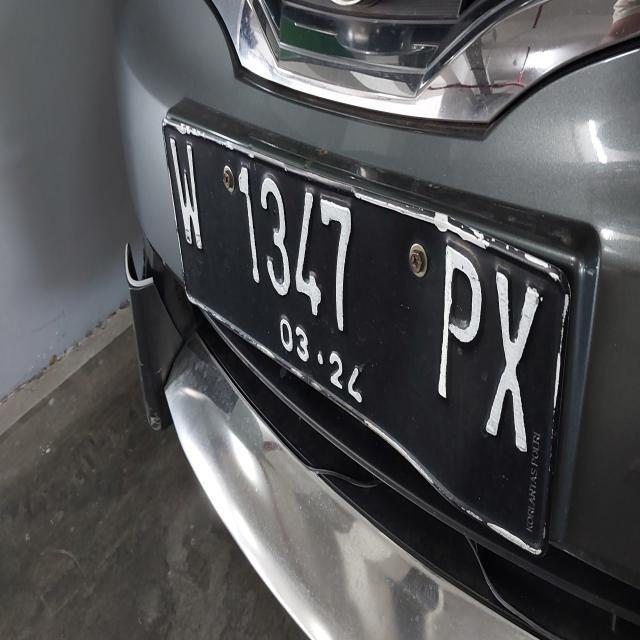1: (223, 143, 268, 290)
3: (252, 152, 297, 308)
4: (282, 165, 326, 328)
7: (313, 173, 365, 358)
P: (420, 208, 484, 424)
W: (151, 123, 217, 264)
X: (478, 236, 544, 474)
